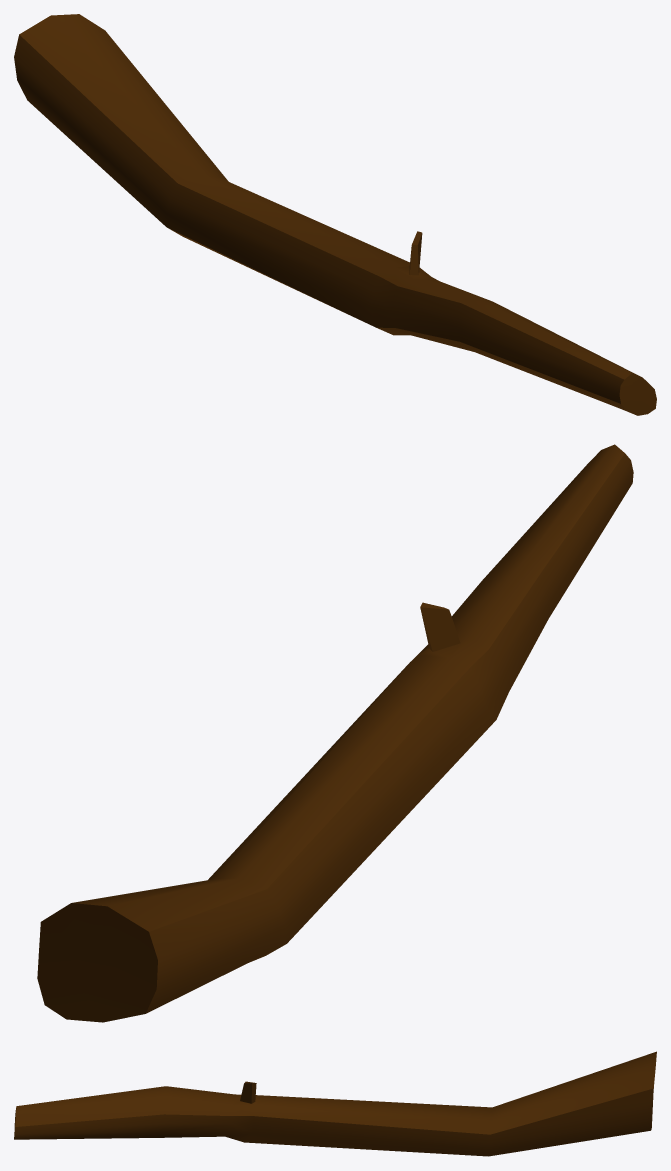
File: Sem4_Environment_Ast03_JT.fbx
3 renders of one model, top to bottom at view 1: azimuth 30°, elevation 25°; view 2: azimuth 150°, elevation 25°; view 3: azimuth 270°, elevation 25°, orthographic. The views are drawn at different scales.
Parts seen in each view (by area): view 1: Ast3_f; view 2: Ast3_f; view 3: Ast3_f.
Part boxes in pixels (x1,y1,x2,y2): Ast3_f: [14, 14, 656, 415]; Ast3_f: [37, 444, 633, 1022]; Ast3_f: [14, 1051, 656, 1156].
Bounding box in the file's own units: 9.46 × 7.64 × 49.29.
